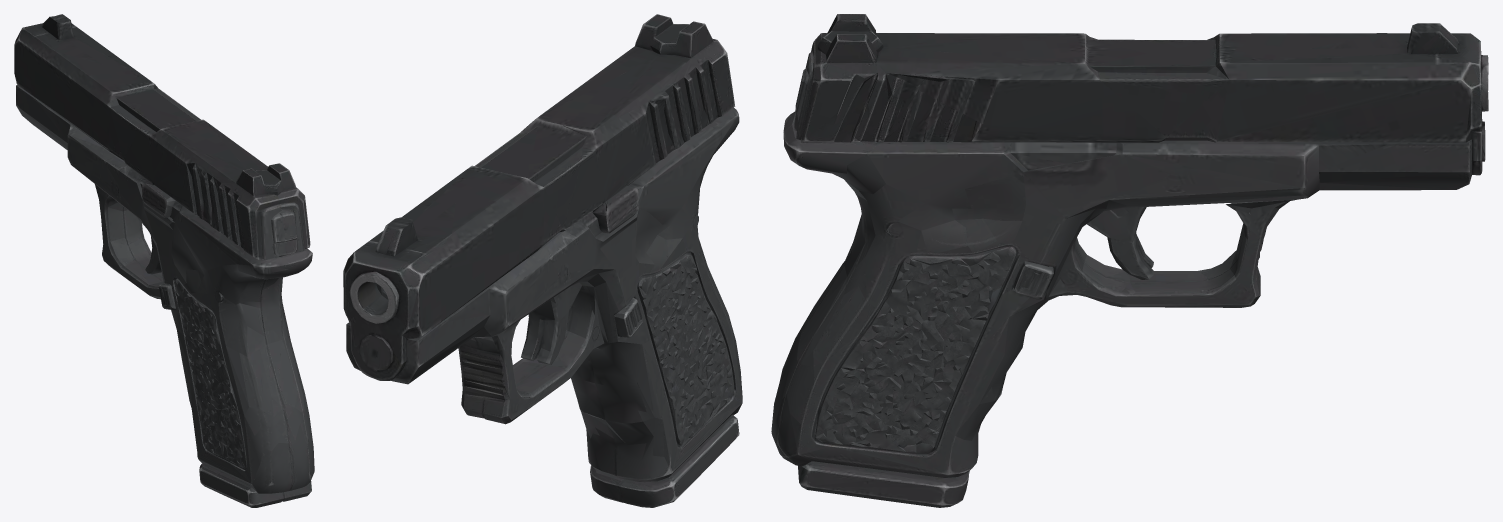
Rendered from pistole.glb.
3 views of the same model, side by side, from view 1: azimuth 30°, elevation 25°; view 2: azimuth 150°, elevation 25°; view 3: azimuth 270°, elevation 25° (orthographic). The views are drawn at different scales.
Parts seen in each view (by area): view 1: waffe_pistole; view 2: waffe_pistole; view 3: waffe_pistole.
Part boxes in pixels (x1,y1,x2,y2): waffe_pistole: (14, 14, 314, 507); waffe_pistole: (343, 14, 742, 507); waffe_pistole: (771, 14, 1488, 507).
Size of the model in its own units: 0.0299 by 0.1362 by 0.19.
1 material, 1 textured.
